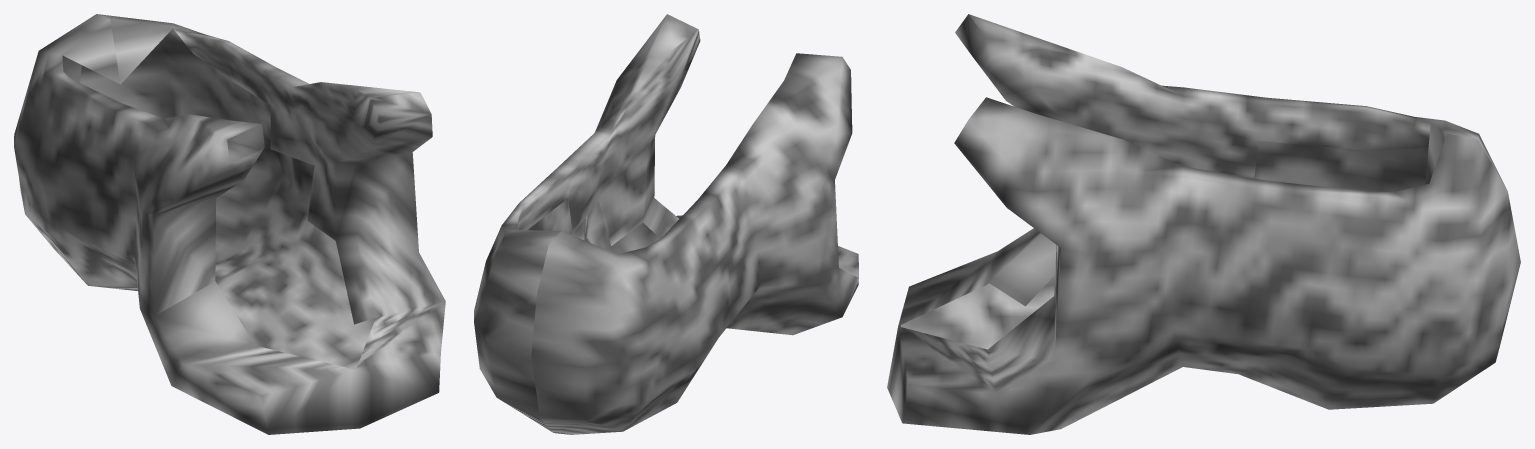
Rendered from Wig_Bob_Hair_HatLong.fbx.
3 views of the same model, side by side, from view 1: azimuth 30°, elevation 25°; view 2: azimuth 150°, elevation 25°; view 3: azimuth 270°, elevation 25° (orthographic). The views are drawn at different scales.
Parts seen in each view (by area): view 1: BoxOfJars003; view 2: BoxOfJars003; view 3: BoxOfJars003.
Boxes of the visible parts, bbox=[...] form: BoxOfJars003: bbox=[14, 14, 445, 434]; BoxOfJars003: bbox=[474, 14, 858, 434]; BoxOfJars003: bbox=[887, 14, 1520, 434].
Size of the model in its own units: 14.38 by 15.25 by 26.56.
